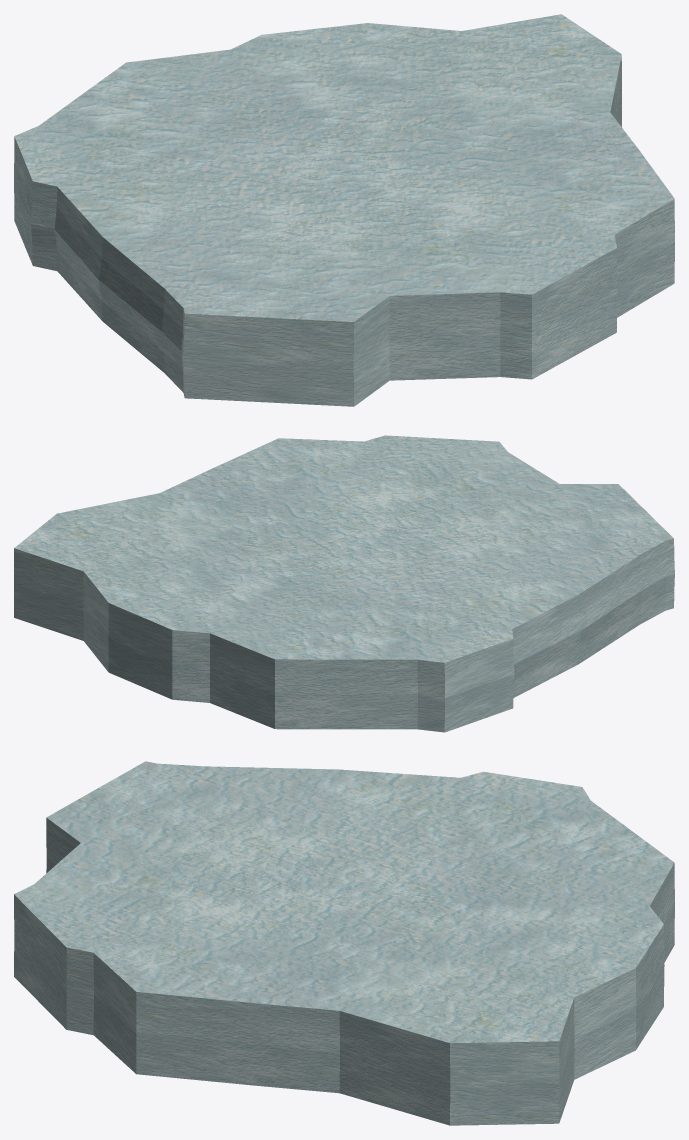
File: PlataformaResbaladiza1.fbx
3 renders of one model, top to bottom at view 1: azimuth 30°, elevation 25°; view 2: azimuth 150°, elevation 25°; view 3: azimuth 270°, elevation 25°, orthographic. The views are drawn at different scales.
Visible parts, largest first — view 1: 1_PlataformaNormalResbaladiza; view 2: 1_PlataformaNormalResbaladiza; view 3: 1_PlataformaNormalResbaladiza.
Boxes of the visible parts, x1=… form: 1_PlataformaNormalResbaladiza: x1=14, y1=14, x2=674, y2=406; 1_PlataformaNormalResbaladiza: x1=14, y1=435, x2=674, y2=732; 1_PlataformaNormalResbaladiza: x1=14, y1=761, x2=674, y2=1125.
Bounding box in the file's own units: 3.81 × 0.5175 × 3.76.
1 material, 1 textured.
